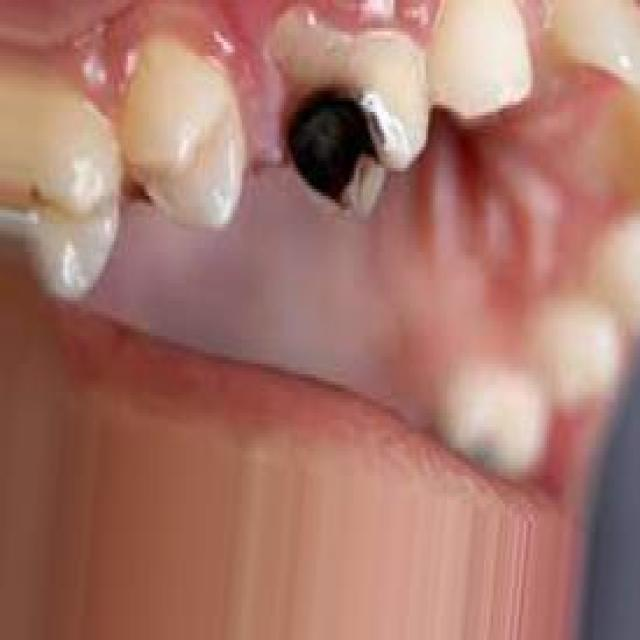caries: (272, 45, 388, 229)
